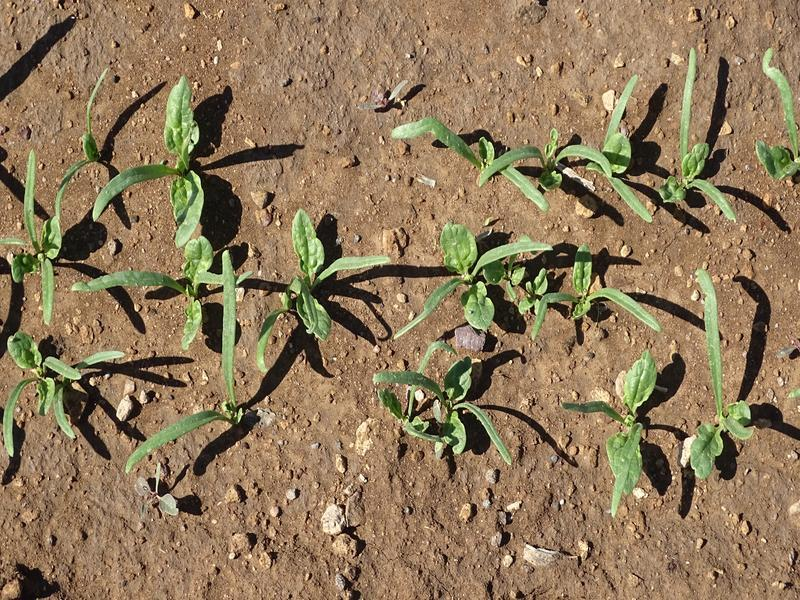Espinaca: (14, 96, 247, 472), (392, 61, 741, 222), (399, 221, 662, 335), (249, 211, 385, 367), (375, 342, 517, 465), (563, 347, 662, 516), (692, 268, 755, 480), (752, 49, 800, 176)
